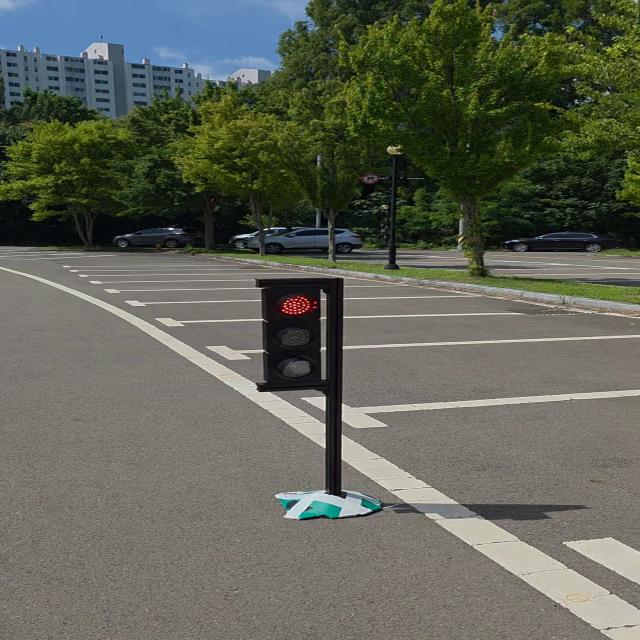red: (255, 274, 337, 396)
